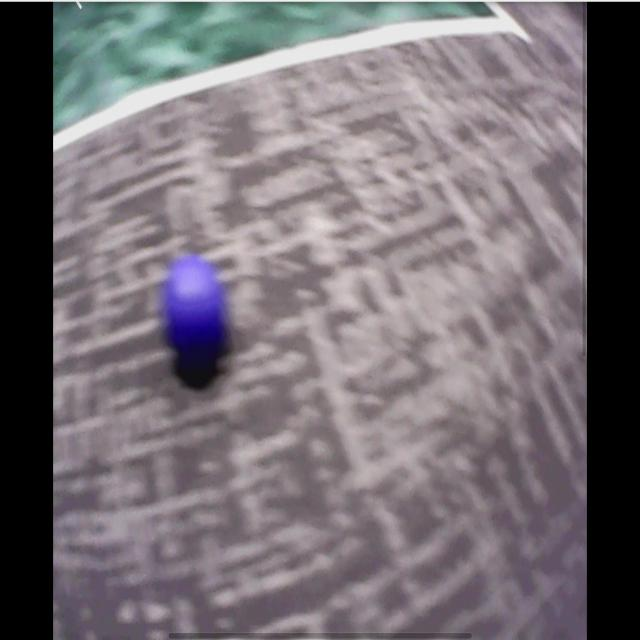ball: (167, 263, 220, 356)
